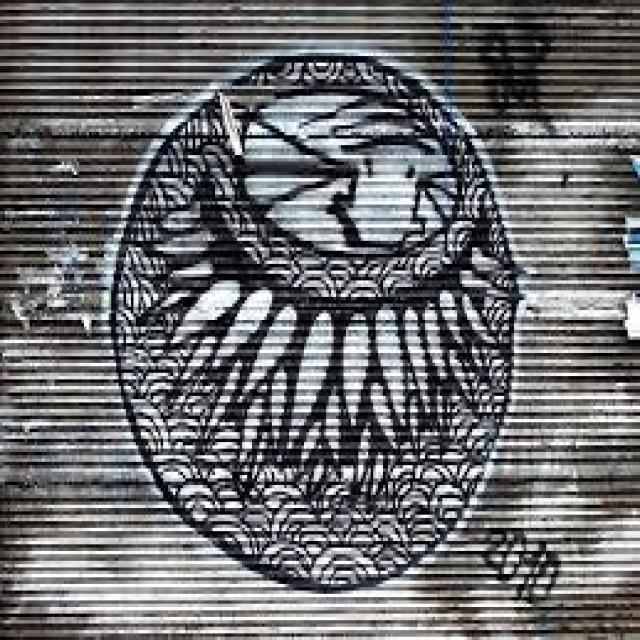-: (114, 43, 528, 594), (482, 21, 554, 121), (488, 528, 556, 602)
